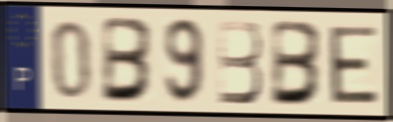0: (47, 17, 96, 101)
9: (162, 16, 207, 106)
B: (269, 17, 326, 108), (100, 14, 157, 105), (216, 17, 266, 107)
E: (326, 23, 380, 107)
